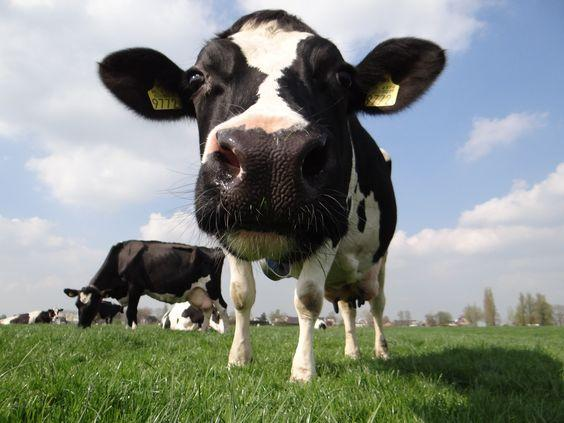cow: (90, 14, 454, 400)
